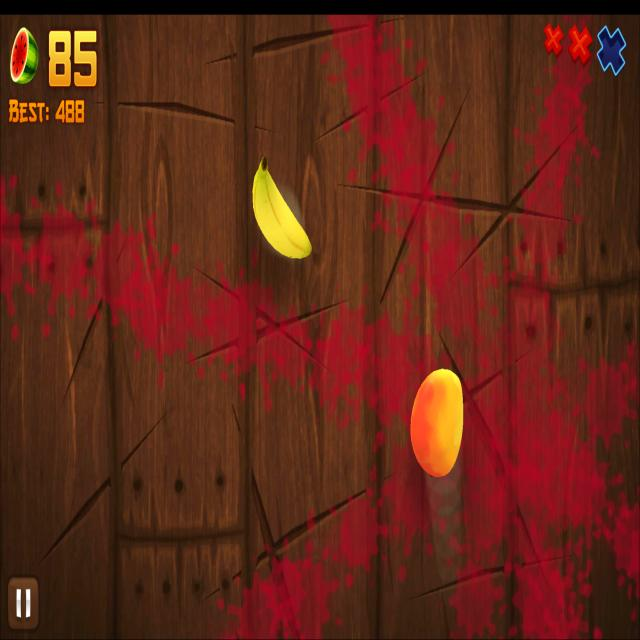fruit: (252, 156, 313, 262), (411, 370, 463, 478)
